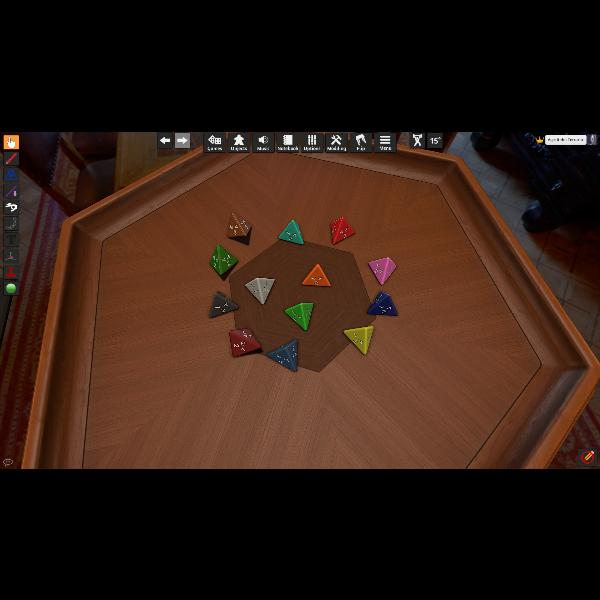d4: (266, 339, 298, 371), (209, 243, 237, 277), (229, 328, 261, 356), (209, 290, 239, 318), (342, 326, 372, 354), (245, 276, 275, 304), (284, 302, 312, 330), (367, 257, 395, 285), (366, 291, 396, 315), (228, 210, 250, 238), (302, 264, 329, 286), (279, 220, 303, 244), (331, 217, 353, 243)
